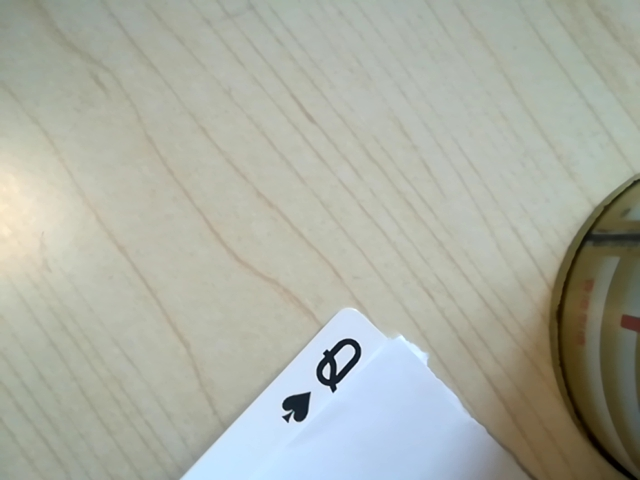ht q: (269, 332, 379, 431)
